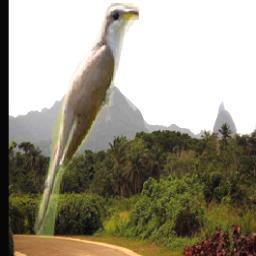Cuckoo: (33, 4, 140, 239)
